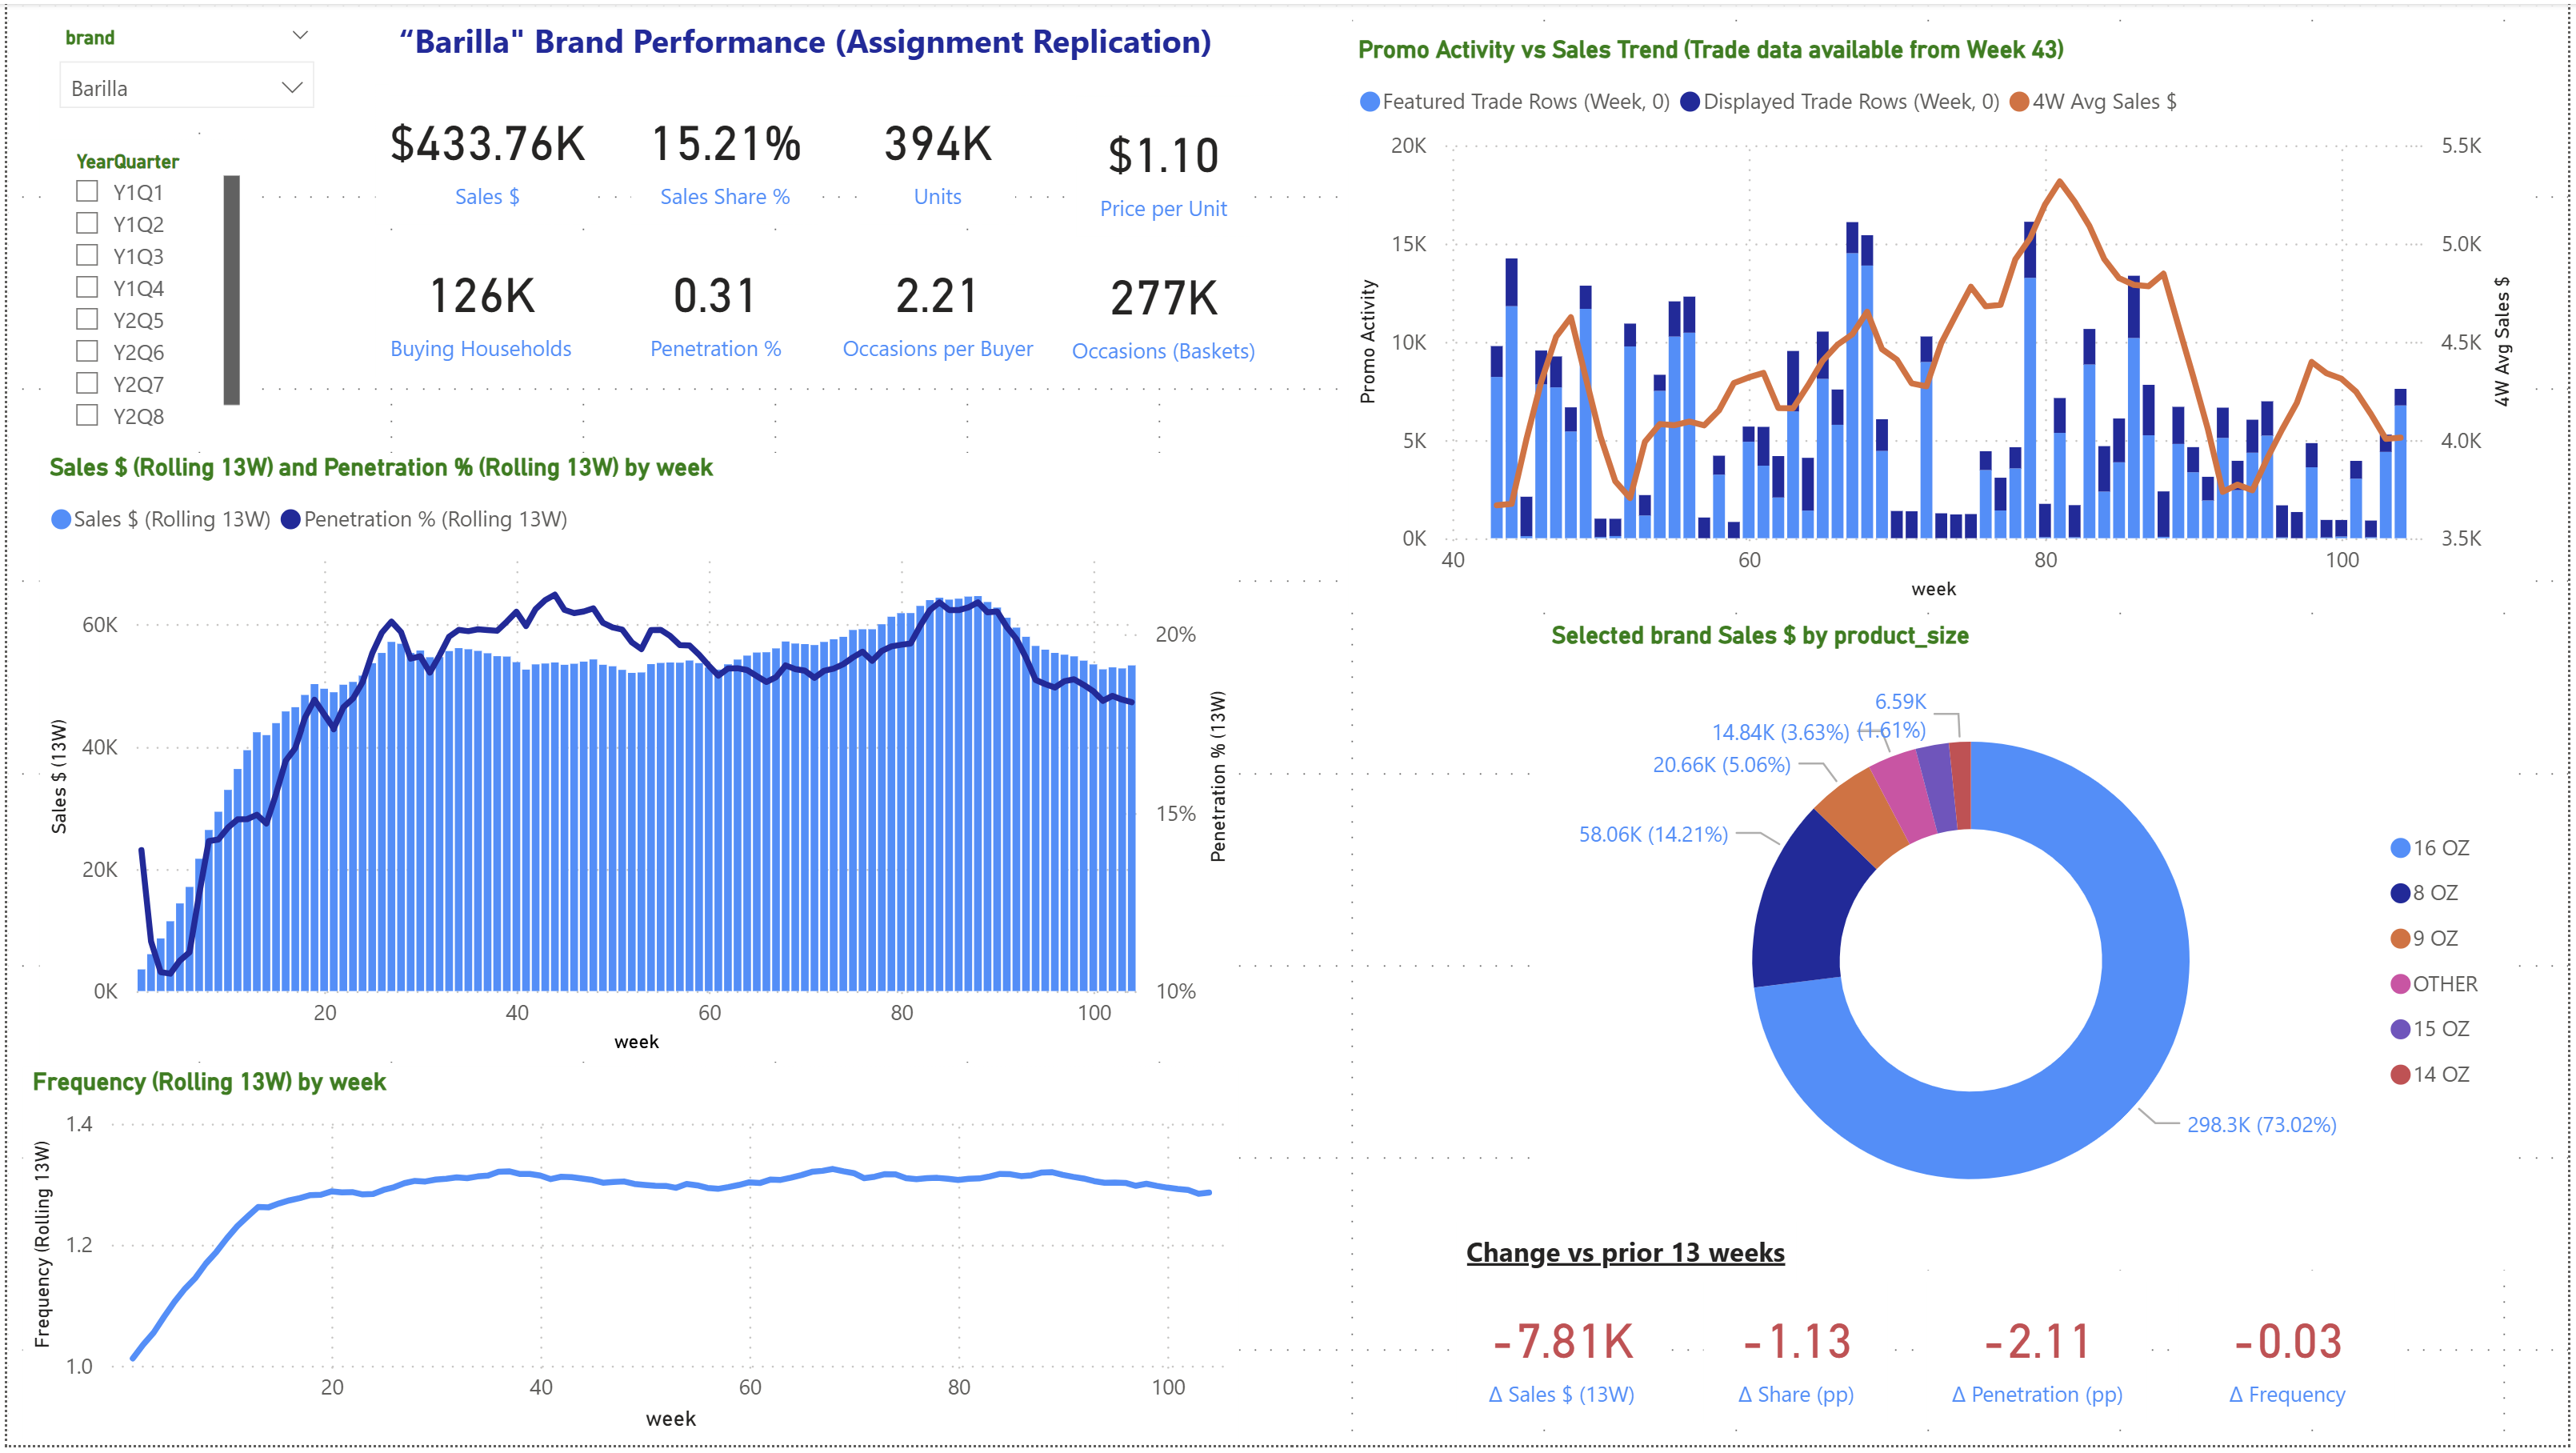

What the dashboard file says about the page in this screenshot:
{"tool":"powerbi","page":{"name":"02 Barilla (Assignment Replication)","canvas":[1280,720],"ordinal":1},"visuals":[{"type":"slicer","fields":{"Values":["DimProduct.brand"]},"box":[16,6,147.3,58],"z":0},{"type":"slicer","fields":{"Values":["DimDay.YearQuarter"]},"box":[21.3,68,99.3,149.3],"z":1000},{"type":"card","fields":{"Values":["zz_Measures.Sales $"]},"box":[184,40,111.3,70],"z":2000},{"type":"card","fields":{"Values":["zz_Measures.Sales Share %"]},"box":[312,40,93.3,70],"z":3000},{"type":"card","fields":{"Values":["zz_Measures.Units"]},"box":[426,40,78,70],"z":4000},{"type":"card","fields":{"Values":["zz_Measures.Price per Unit"]},"box":[534.7,46,86.7,70],"z":5000},{"type":"card","fields":{"Values":["zz_Measures.Buying Households"]},"box":[184,116.7,104.7,70],"z":6000},{"type":"card","fields":{"Values":["zz_Measures.Penetration %"]},"box":[312,116.7,84,70],"z":7000},{"type":"card","fields":{"Values":["zz_Measures.Occasions per Buyer"]},"box":[410.7,116.7,109.3,70],"z":8000},{"type":"card","fields":{"Values":["zz_Measures.Occasions (Baskets)"]},"box":[525.3,117.3,104.7,70],"z":9000},{"type":"lineClusteredColumnComboChart","fields":{"Category":["DimDay.week"],"Y":["DimWeek.Sales $ (Rolling 13W)"],"Y2":["DimWeek.Penetration % (Rolling 13W)"]},"box":[16,224.7,599.3,304],"z":10000},{"type":"lineChart","fields":{"Category":["DimDay.week"],"Y":["DimWeek.Frequency (Rolling 13W)"]},"box":[7.8,531,607.8,186],"z":11000},{"type":"lineStackedColumnComboChart","title":"Promo Activity vs Sales Trend (Trade data available from Week 43)","fields":{"Category":["DimWeek.week"],"Y":["zz_Measures.Featured Trade Rows (Week, 0)","zz_Measures.Displayed Trade Rows (Week, 0)"],"Y2":["zz_Measures.4W Avg Sales $"]},"box":[670.4,15.6,586.8,286.8],"z":12000},{"type":"donutChart","title":"Selected brand Sales $ by product_size","fields":{"Y":["zz_Measures.Sales $"],"Category":["DimProduct.product_size_norm"]},"box":[766.7,308.7,482.7,324],"z":13000},{"type":"textbox","box":[190.8,1.8,481.2,43.8],"z":14000},{"type":"card","fields":{"Values":["DimWeek.Δ Sales $ (13W vs Prior 13W)"]},"box":[724,638.7,104.7,70.7],"z":15000},{"type":"card","fields":{"Values":["zz_Measures.Δ Share (pp)"]},"box":[848,638.7,92,70.7],"z":16000},{"type":"card","fields":{"Values":["zz_Measures.Δ Penetration (pp)"]},"box":[959.3,638.7,110,70.7],"z":17000},{"type":"card","fields":{"Values":["DimWeek.Δ Frequency (13W vs Prior 13W)"]},"box":[1085.3,638.7,108,70.7],"z":18000},{"type":"textbox","box":[724,608.7,170,30],"z":19000}]}

Visuals, with their boxes in screenshot pixels (x1, y1, x2, y2), scaled from the page's 1280x720 canvas onto the 2576x1453 screenshot:
slicer - DimProduct.brand: box(32, 12, 329, 129)
slicer - DimDay.YearQuarter: box(43, 138, 242, 438)
card - zz_Measures.Sales $: box(370, 81, 594, 222)
card - zz_Measures.Sales Share %: box(628, 81, 816, 222)
card - zz_Measures.Units: box(858, 81, 1014, 222)
card - zz_Measures.Price per Unit: box(1076, 93, 1250, 234)
card - zz_Measures.Buying Households: box(370, 235, 581, 377)
card - zz_Measures.Penetration %: box(628, 235, 797, 377)
card - zz_Measures.Occasions per Buyer: box(826, 235, 1046, 377)
card - zz_Measures.Occasions (Baskets): box(1057, 237, 1268, 378)
lineClusteredColumnComboChart - DimDay.week x DimWeek.Sales $ (Rolling 13W): box(32, 454, 1238, 1067)
lineChart - DimDay.week x DimWeek.Frequency (Rolling 13W): box(16, 1071, 1239, 1447)
"Promo Activity vs Sales Trend (Trade data available from Week 43)" lineStackedColumnComboChart: box(1349, 31, 2530, 610)
"Selected brand Sales $ by product_size" donutChart: box(1543, 623, 2514, 1277)
textbox: box(384, 4, 1352, 92)
card - DimWeek.Δ Sales $ (13W vs Prior 13W): box(1457, 1289, 1668, 1431)
card - zz_Measures.Δ Share (pp): box(1706, 1289, 1892, 1431)
card - zz_Measures.Δ Penetration (pp): box(1930, 1289, 2152, 1431)
card - DimWeek.Δ Frequency (13W vs Prior 13W): box(2184, 1289, 2402, 1431)
textbox: box(1457, 1228, 1799, 1289)
